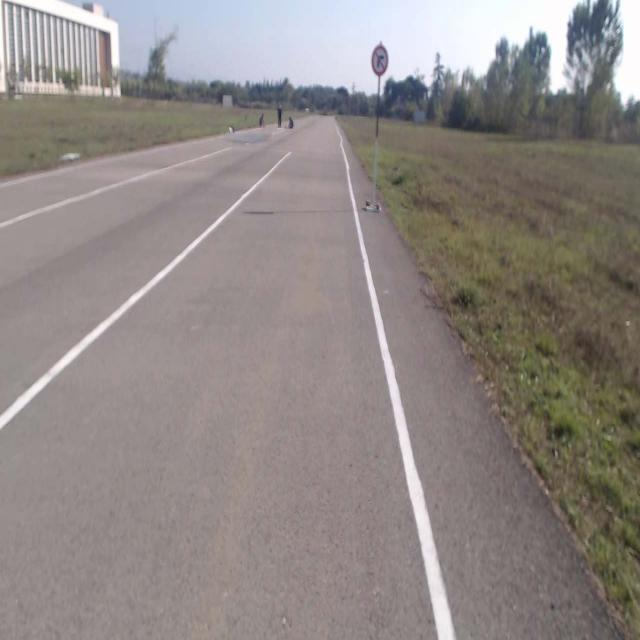sagadonulmez: (370, 46, 390, 78)
